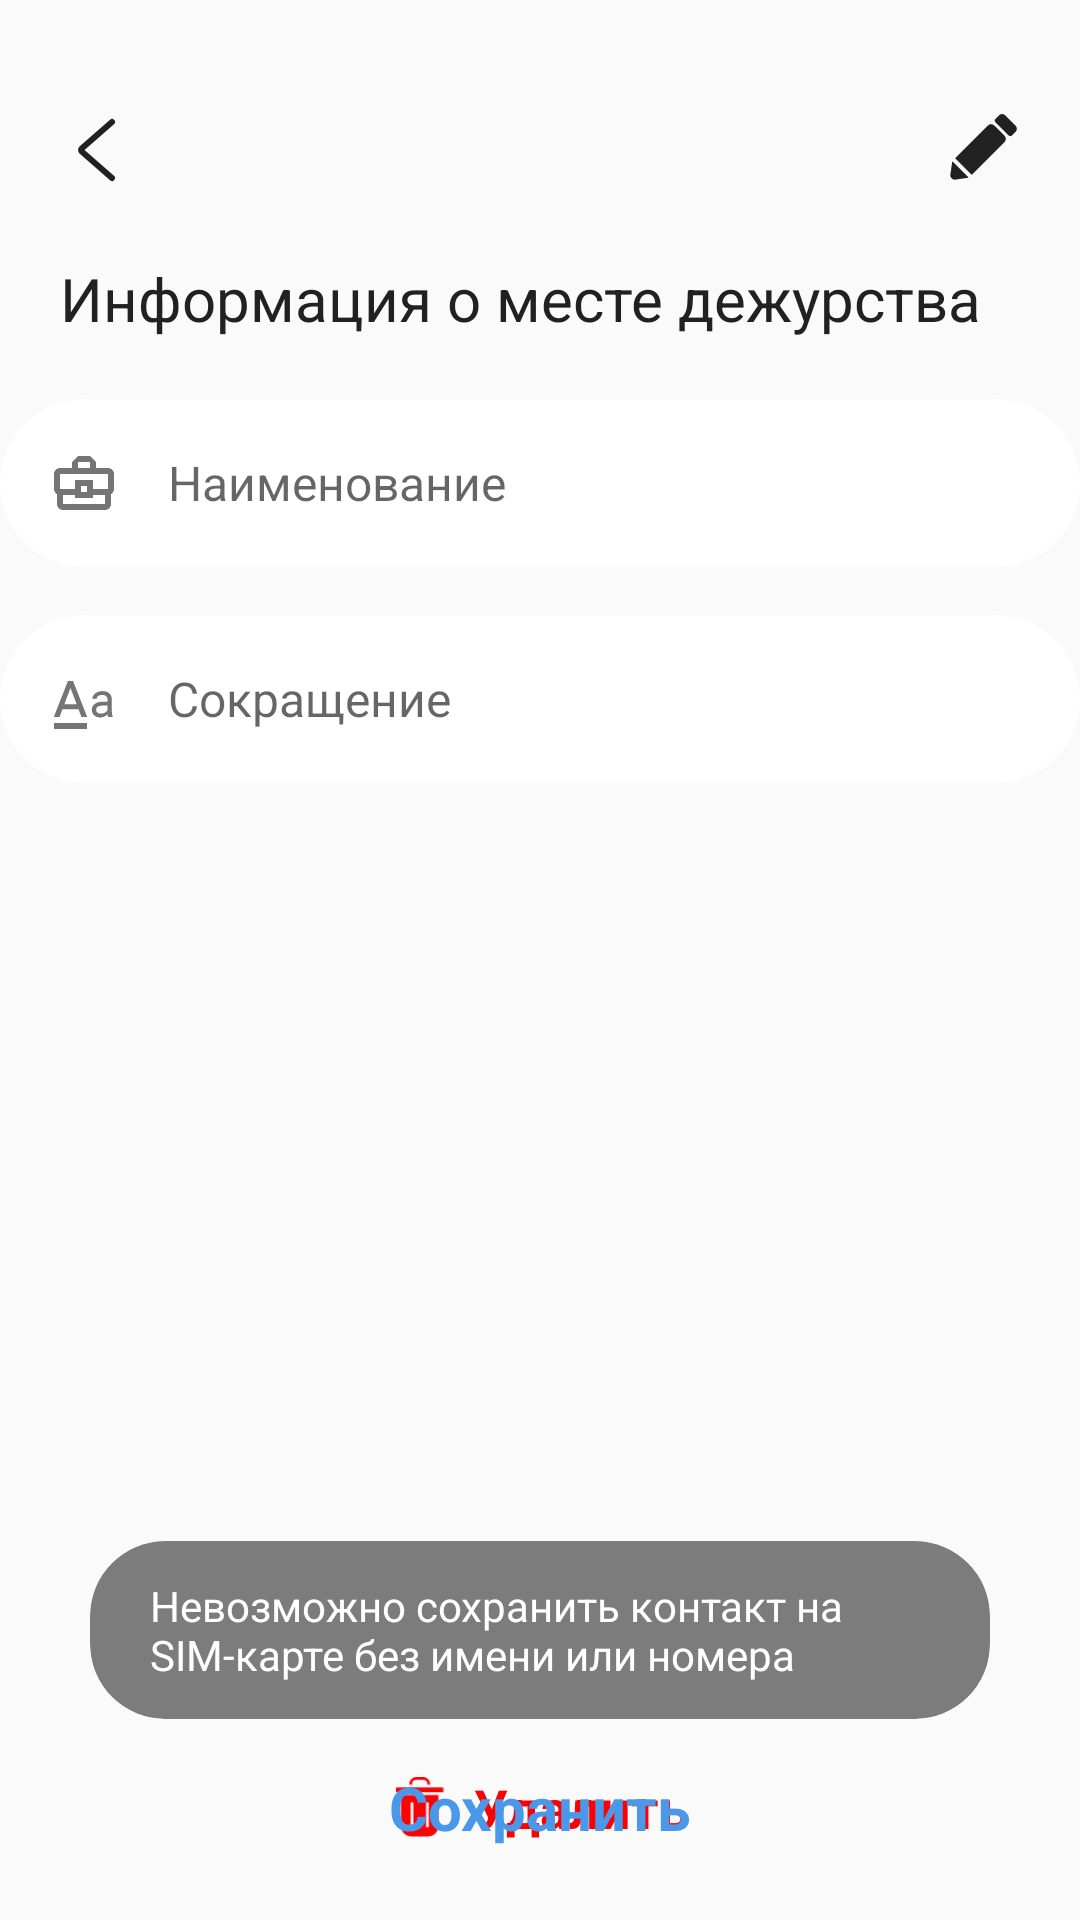

Screen size 1080w x 1920h. Icon name, then its box in pixels as (x1, y1, x2, y2):
arrow left: (78, 118, 115, 182)
pen edit: (950, 114, 1017, 180)
suitcase: (54, 456, 114, 510)
